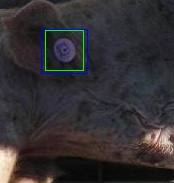text: (45, 30, 83, 70)
